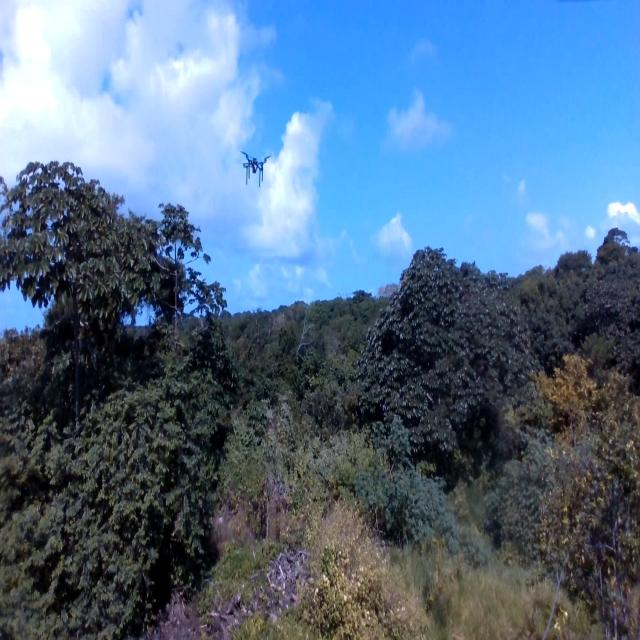-uav-: (239, 139, 274, 196)
